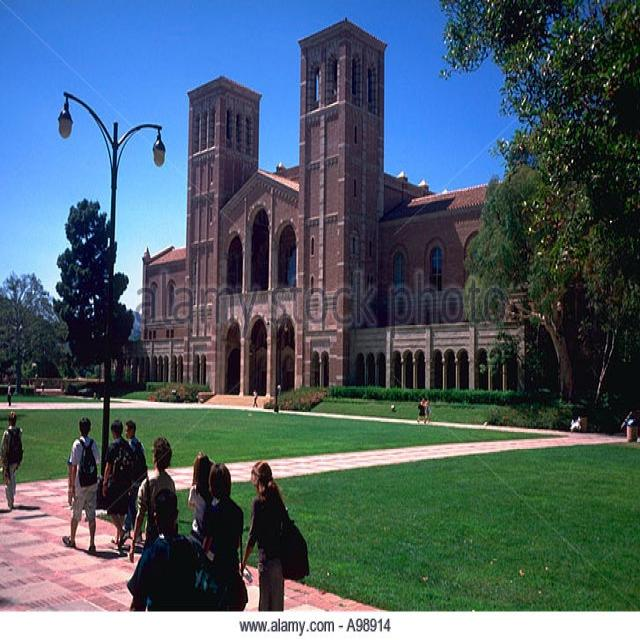body: (238, 458, 298, 614), (125, 486, 197, 613), (200, 462, 250, 611), (128, 435, 178, 564), (60, 413, 103, 558), (98, 416, 137, 550), (120, 419, 149, 545), (187, 451, 216, 542), (0, 408, 25, 513), (417, 394, 432, 424), (6, 379, 14, 406), (251, 388, 259, 409), (40, 378, 47, 395)
